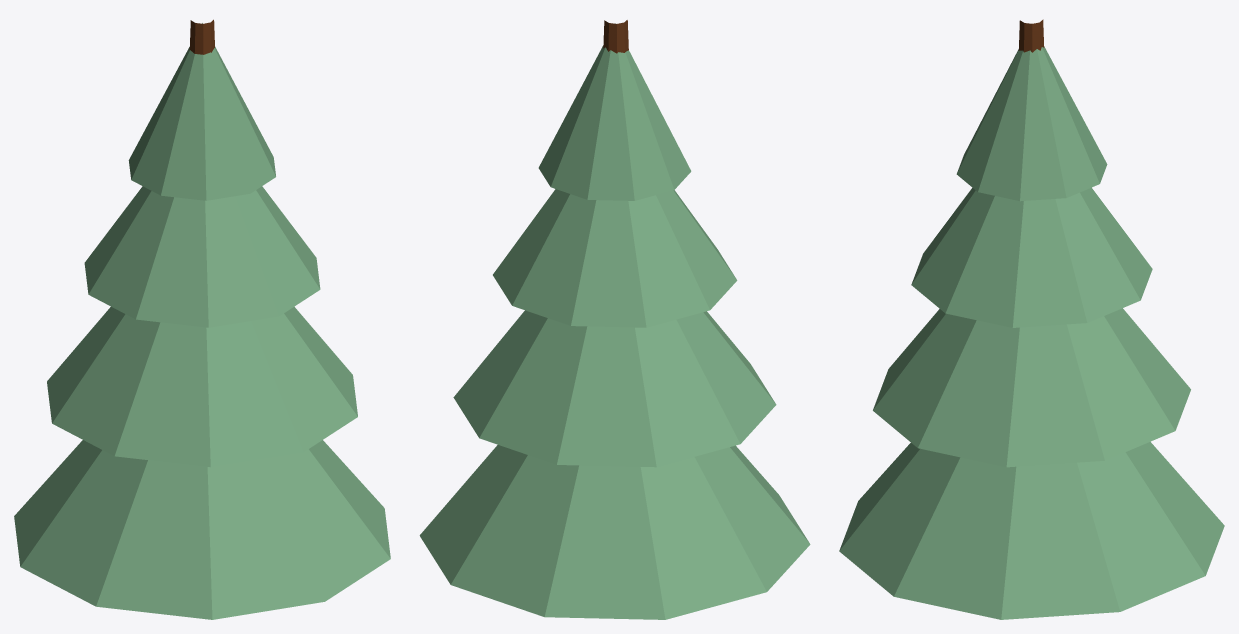
Rendered from nature_pine_columnar.glb.
The picture shows the model from 3 angles, left to right: view 1: azimuth 30°, elevation 25°; view 2: azimuth 150°, elevation 25°; view 3: azimuth 270°, elevation 25°; orthographic projection.
Parts seen in each view (by area): view 1: world; view 2: world; view 3: world.
Boxes of the visible parts, left/top/right/bottom form: world: left=14, top=19, right=390, bottom=619; world: left=419, top=20, right=810, bottom=619; world: left=839, top=19, right=1224, bottom=619.
Bounding box in the file's own units: 1.33 × 2 × 1.34.
2 materials, 1 textured.
